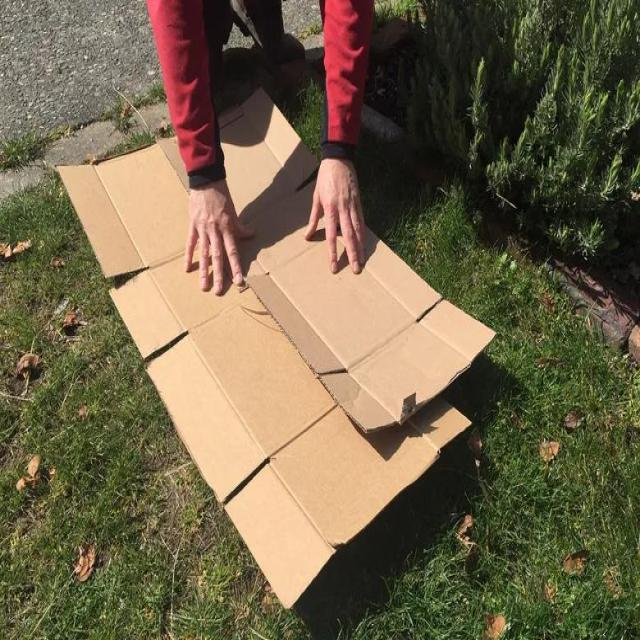cardboard: (56, 86, 496, 613)
